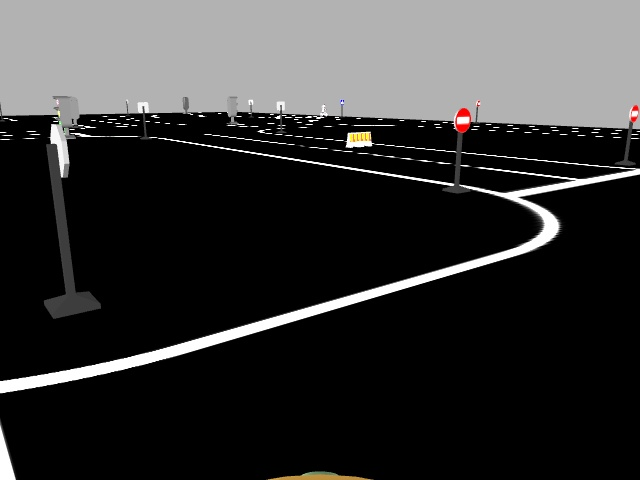NoEntry: (452, 104, 472, 131)
